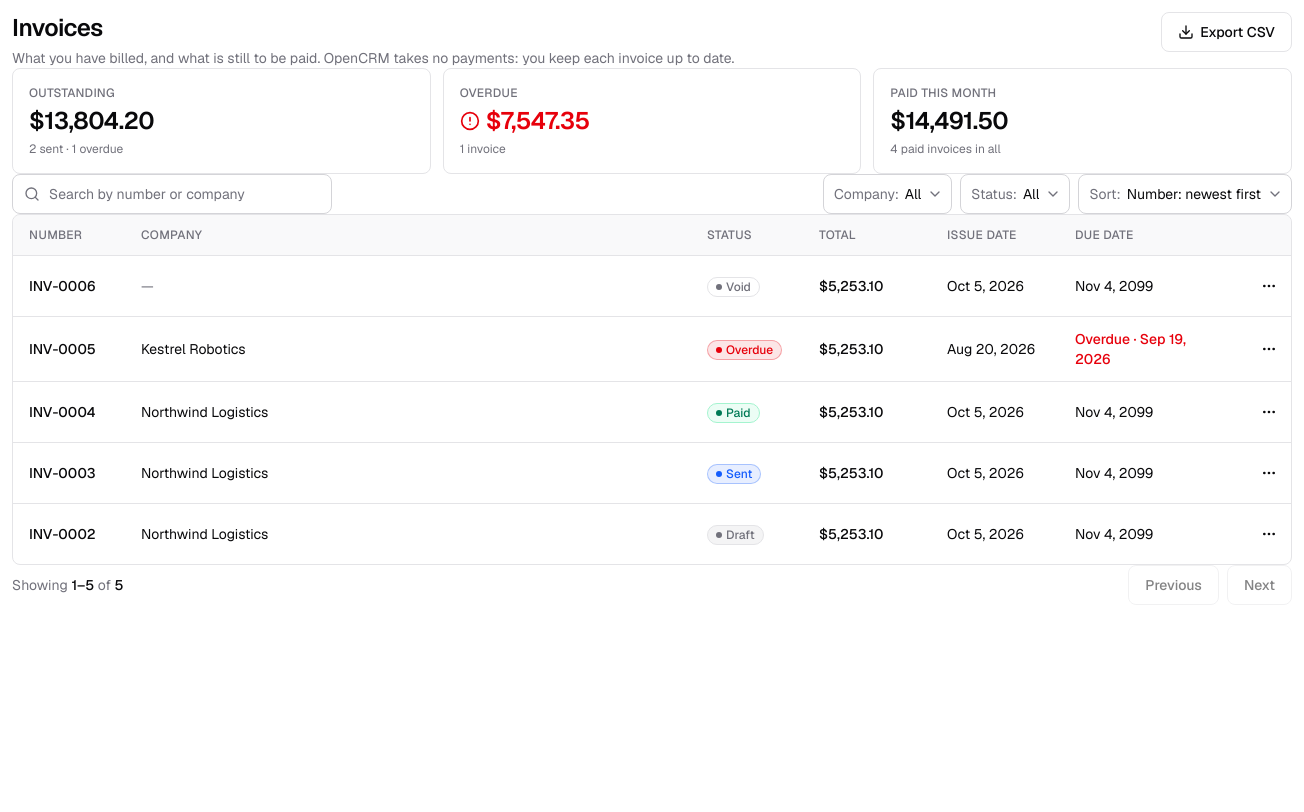
InvoicesPage › offers every status as a filter, and ignores one the API does not have
Click the dropdown labelled "Status" at coordinates (1015, 194), box [960,174,1070,214]
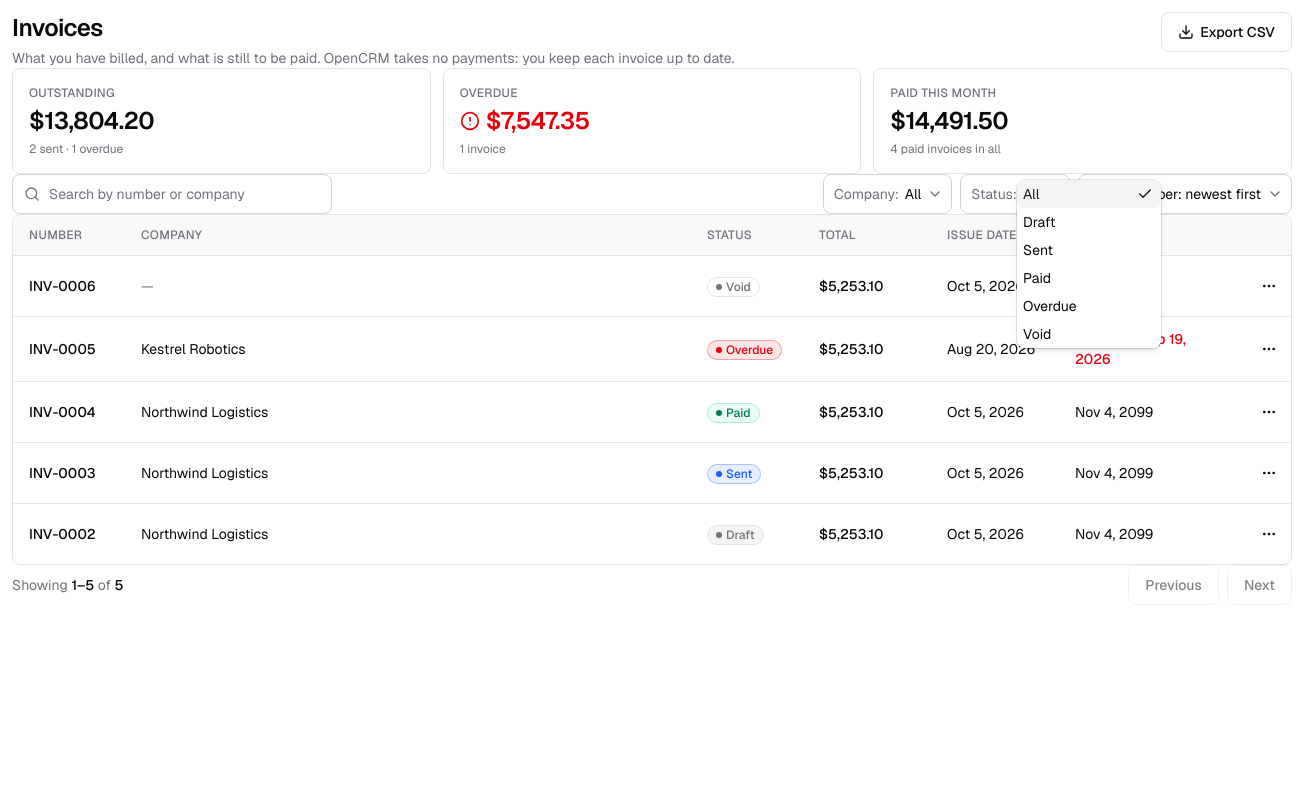
Expected: the options read "All", "Draft", "Sent", "Paid", "Overdue", "Void", in this order, [1017,180,1161,208]; [1023,213,1056,231]; [1023,241,1053,259]; [1023,269,1051,287]; [1023,297,1077,315]; [1023,325,1051,343]
